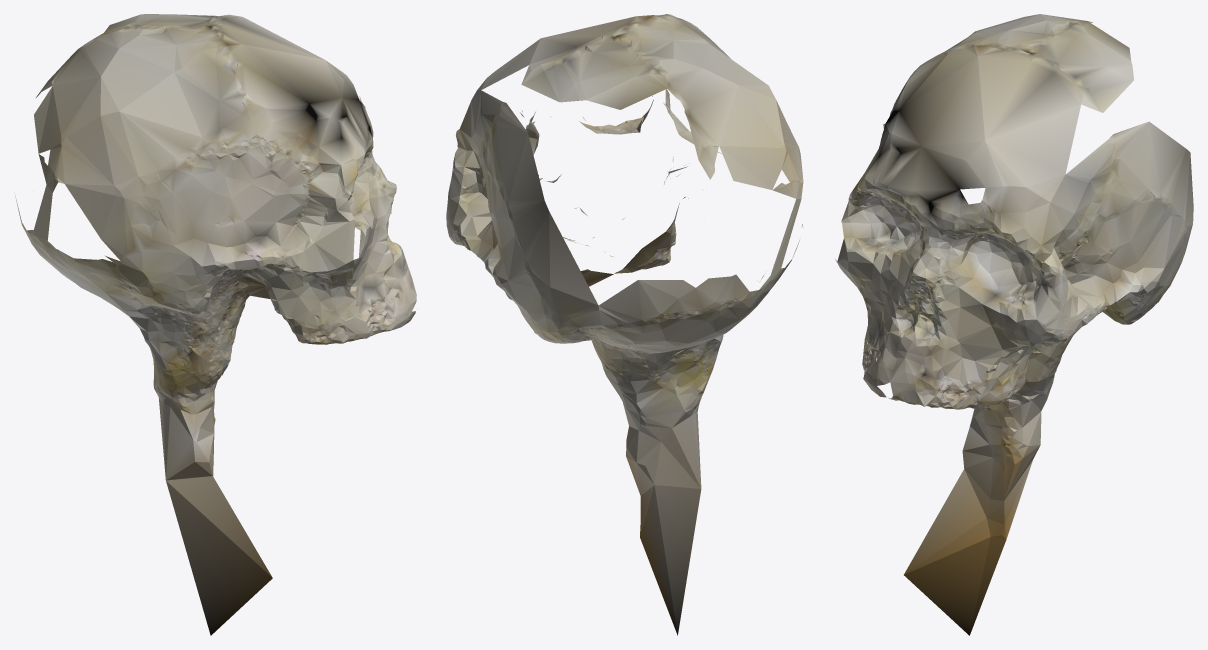
3 renders of one model, left to right at view 1: azimuth 30°, elevation 25°; view 2: azimuth 150°, elevation 25°; view 3: azimuth 270°, elevation 25°, orthographic. The views are drawn at different scales.
Parts seen in each view (by area): view 1: sparse_mesh.ply; view 2: sparse_mesh.ply; view 3: sparse_mesh.ply.
Part boxes in pixels (bbox=[...]): sparse_mesh.ply: bbox=[15, 14, 416, 635]; sparse_mesh.ply: bbox=[446, 14, 803, 635]; sparse_mesh.ply: bbox=[835, 14, 1193, 635].
Bounding box in the file's own units: 1.16 × 2.03 × 1.1.
